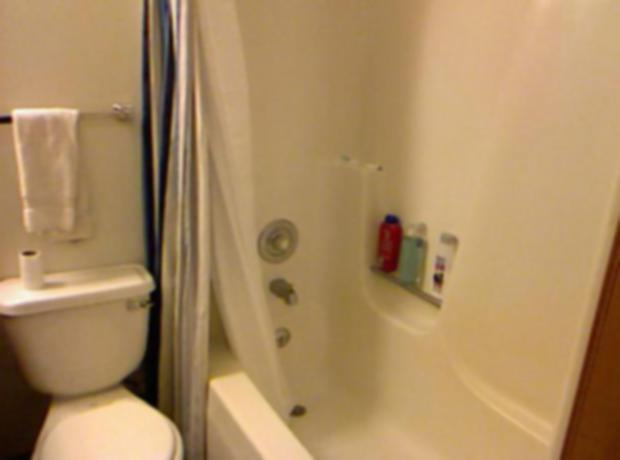Sanitario: (0, 264, 188, 459)
